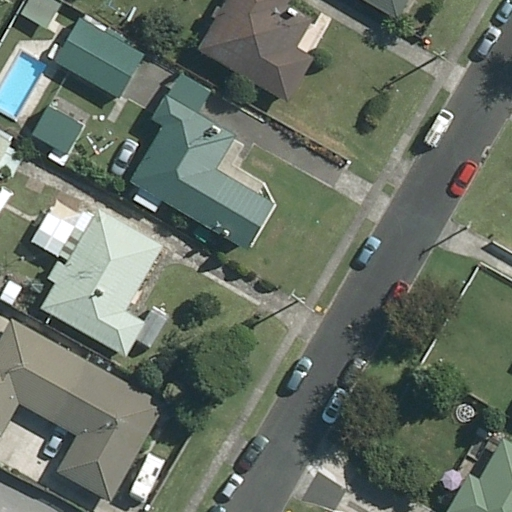DT: (431, 45, 449, 66), (460, 216, 478, 234)
